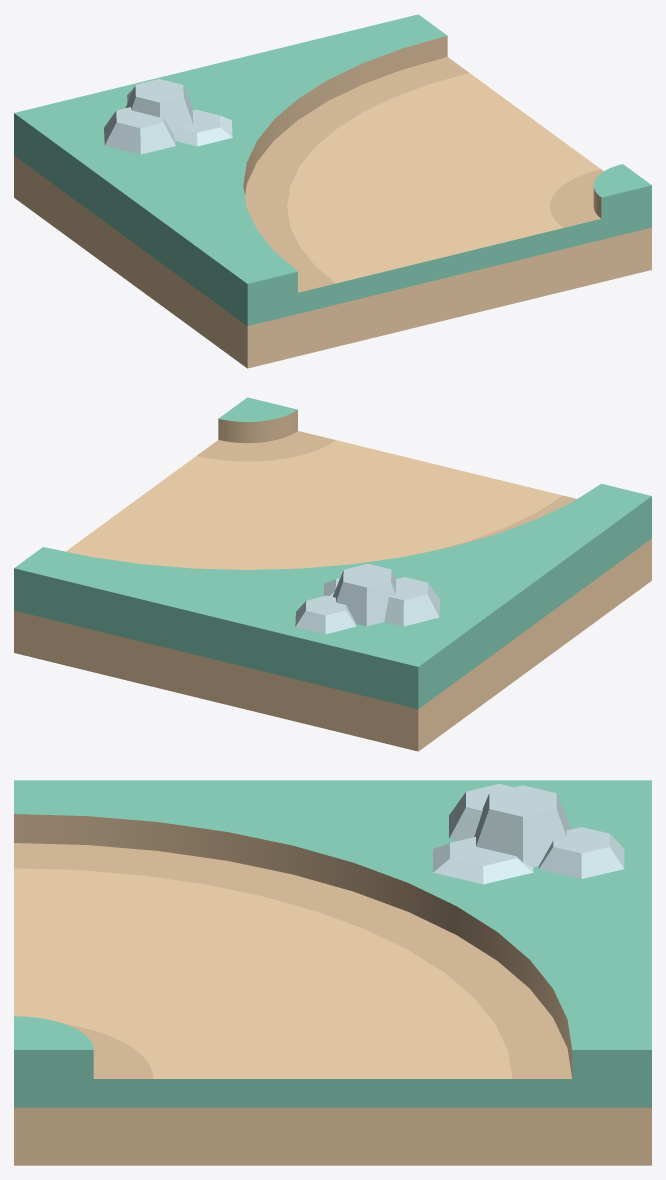
File: tile_rock.fbx
3 views of the same model, one above another, from view 1: azimuth 30°, elevation 25°; view 2: azimuth 150°, elevation 25°; view 3: azimuth 270°, elevation 25° (orthographic). The views are drawn at different scales.
Visible parts, largest first — view 1: tile_cornerRound.002; view 2: tile_cornerRound.002; view 3: tile_cornerRound.002.
Part boxes in pixels (<box>): tile_cornerRound.002: <box>14,14,651,368</box>; tile_cornerRound.002: <box>14,397,651,751</box>; tile_cornerRound.002: <box>14,780,651,1165</box>.
Size of the model in its own units: 100 by 27.75 by 100.
